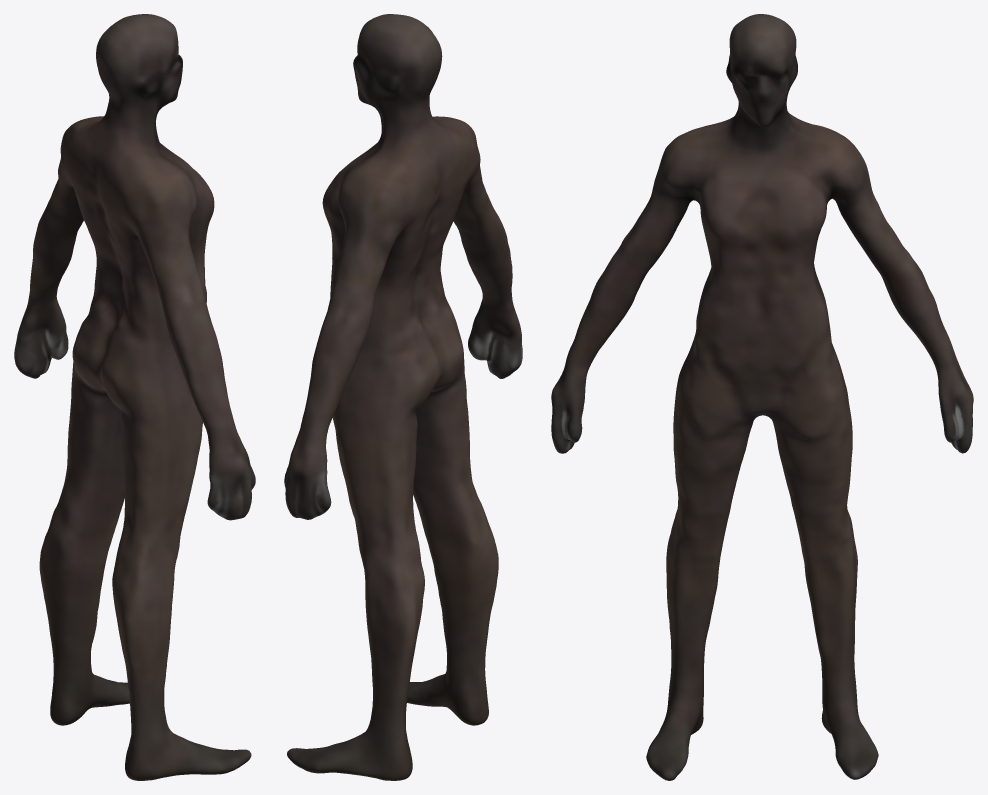
Rendered from character.glb.
3 renders of one model, left to right at view 1: azimuth 30°, elevation 25°; view 2: azimuth 150°, elevation 25°; view 3: azimuth 270°, elevation 25°, orthographic.
Visible parts, largest first — view 1: world; view 2: world; view 3: world.
Part boxes in pixels (x1,y1,x2,y2): world: [14, 14, 255, 780]; world: [284, 14, 522, 780]; world: [551, 14, 973, 780].
Size of the model in its own units: 0.1027 by 0.5811 by 0.3028.
Materials: 1 (1 with a texture image).
